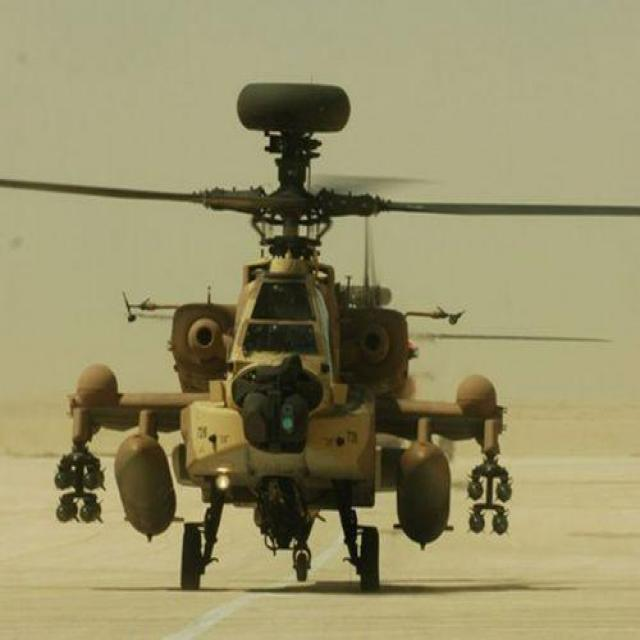MIL_HELO: (1, 62, 640, 591)
